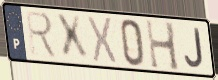0: (119, 18, 146, 68)
H: (144, 17, 182, 73)
J: (183, 26, 205, 70)
R: (24, 9, 60, 61)
X: (54, 13, 91, 62), (86, 14, 118, 67)
